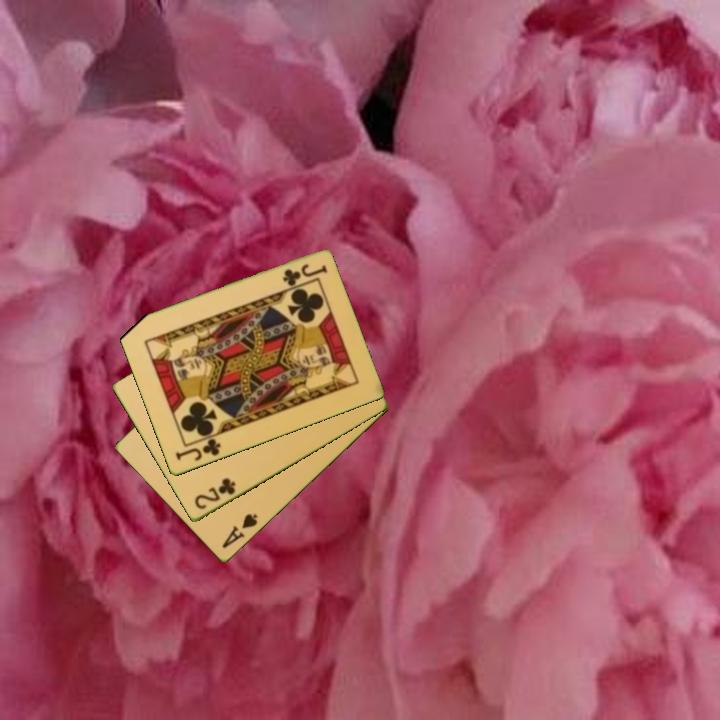2c: (191, 474, 239, 513)
As: (218, 510, 261, 552)
Jc: (172, 435, 224, 464), (279, 261, 330, 289)
